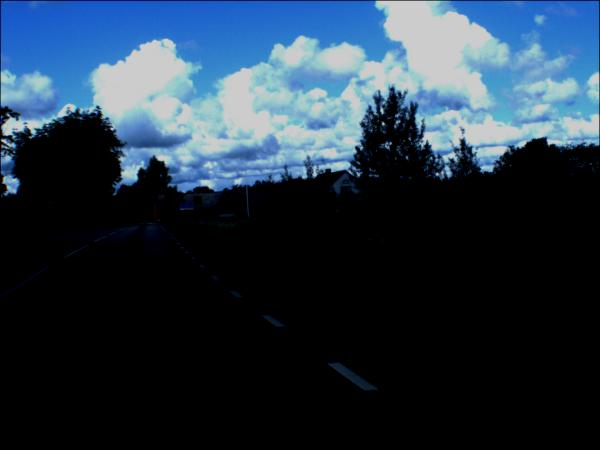50_SIGN: (195, 197, 204, 207), (47, 202, 56, 210)
